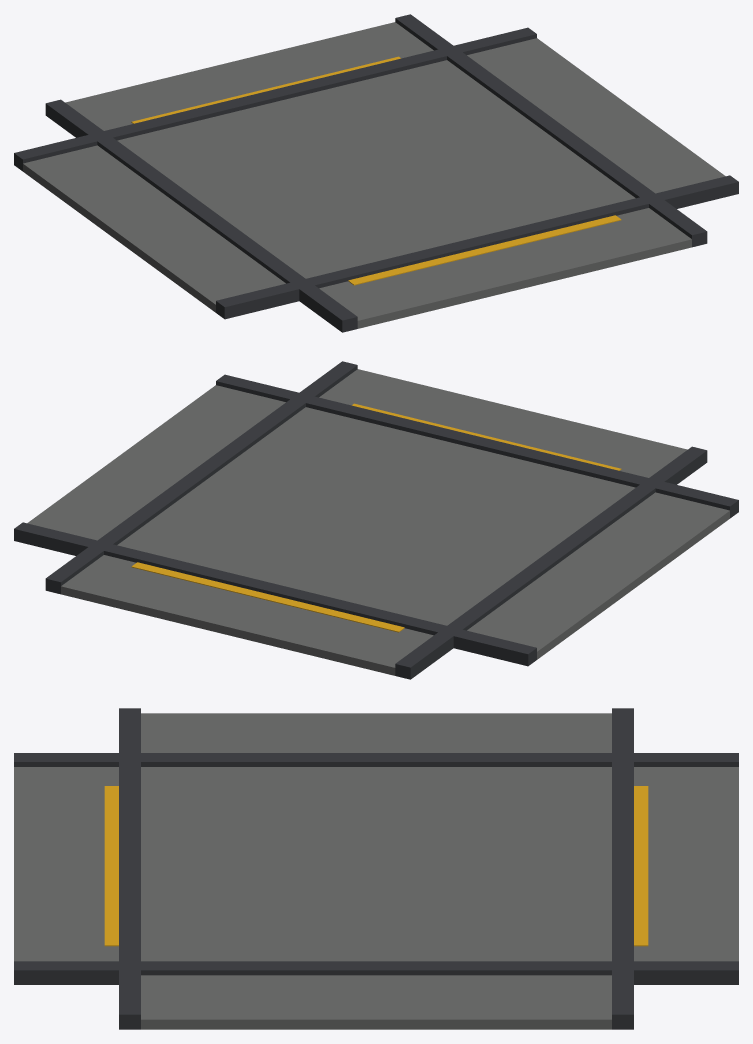
Rendered from road_industrial_v_cross.glb.
The picture shows the model from 3 angles, top to bottom: view 1: azimuth 30°, elevation 25°; view 2: azimuth 150°, elevation 25°; view 3: azimuth 270°, elevation 25°; orthographic projection. The views are drawn at different scales.
Visible parts, largest first — view 1: body; view 2: body; view 3: body.
Boxes of the visible parts, <box> form: body: <box>14,14,738,332</box>; body: <box>14,361,738,679</box>; body: <box>14,708,738,1029</box>.
Size of what is drawn, in the model's own units: 8 by 0.18 by 8.
